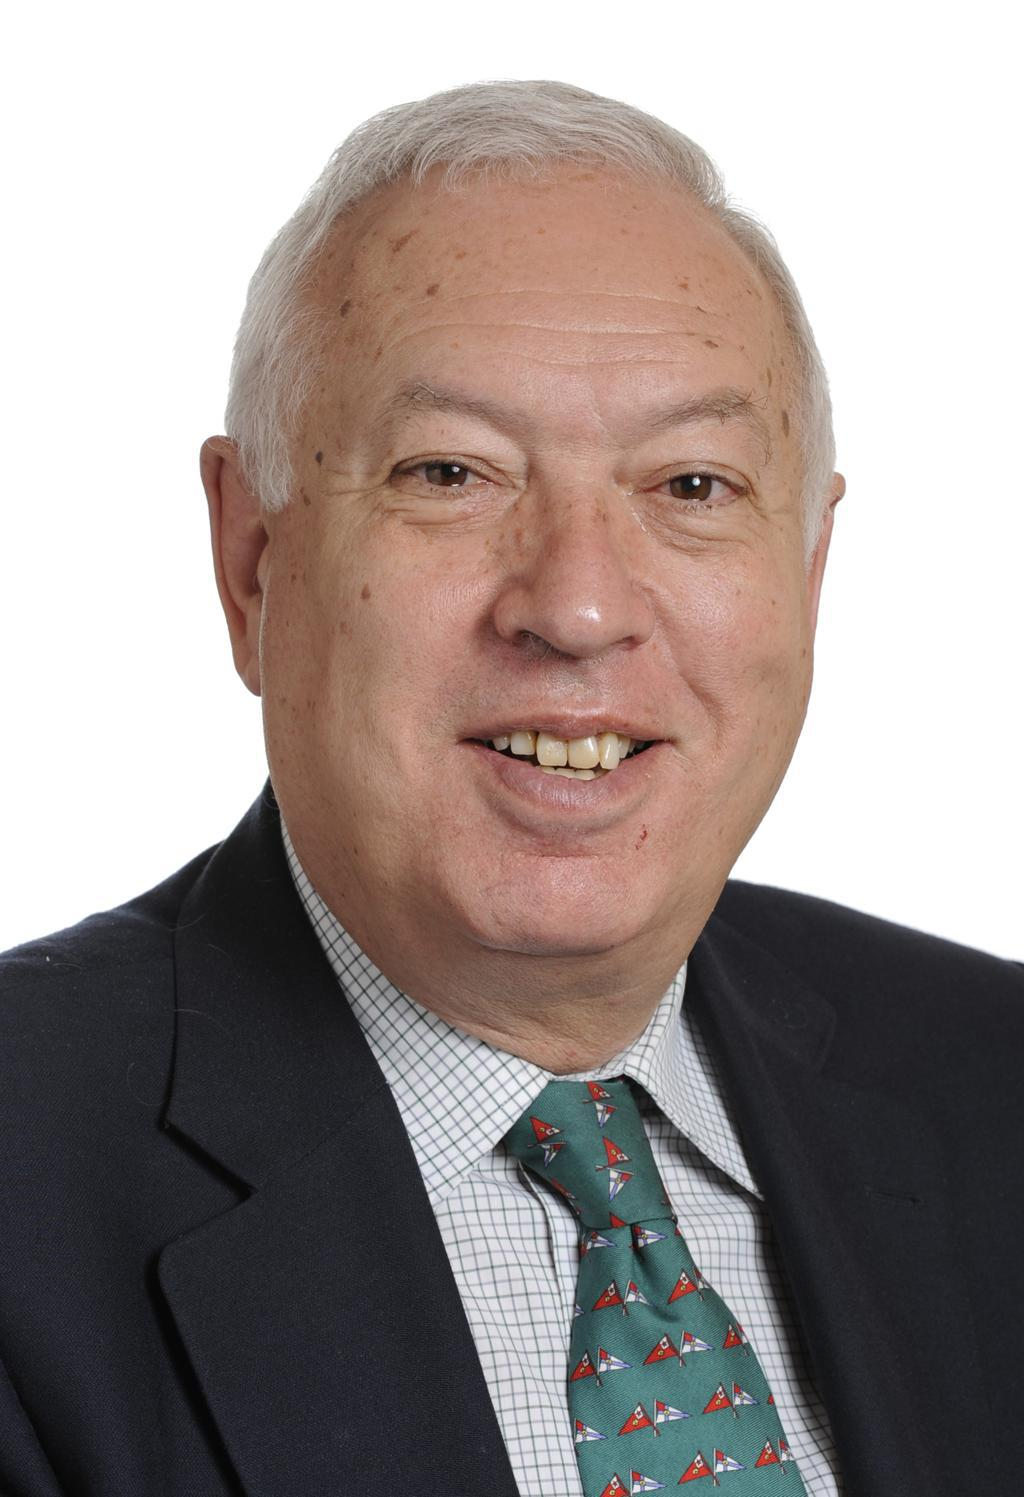face: (273, 235, 794, 952)
